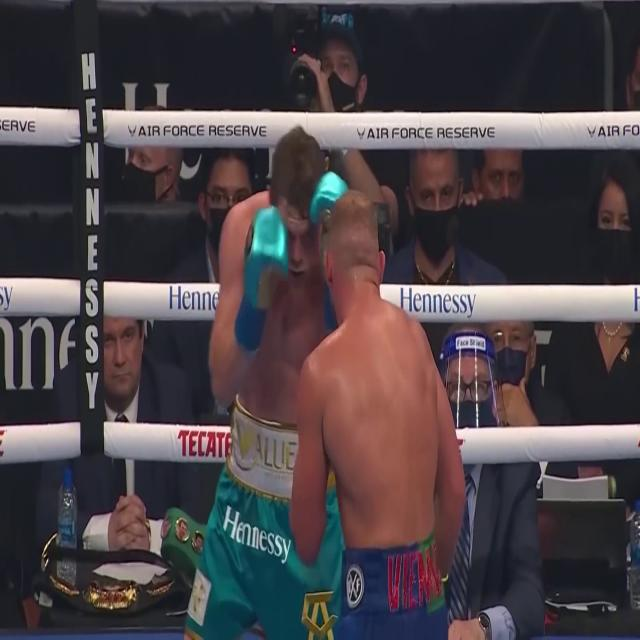boxer_1: (318, 188, 439, 550)
boxer_2: (234, 125, 336, 427)
gloves_2: (234, 206, 290, 350), (310, 170, 349, 225)
